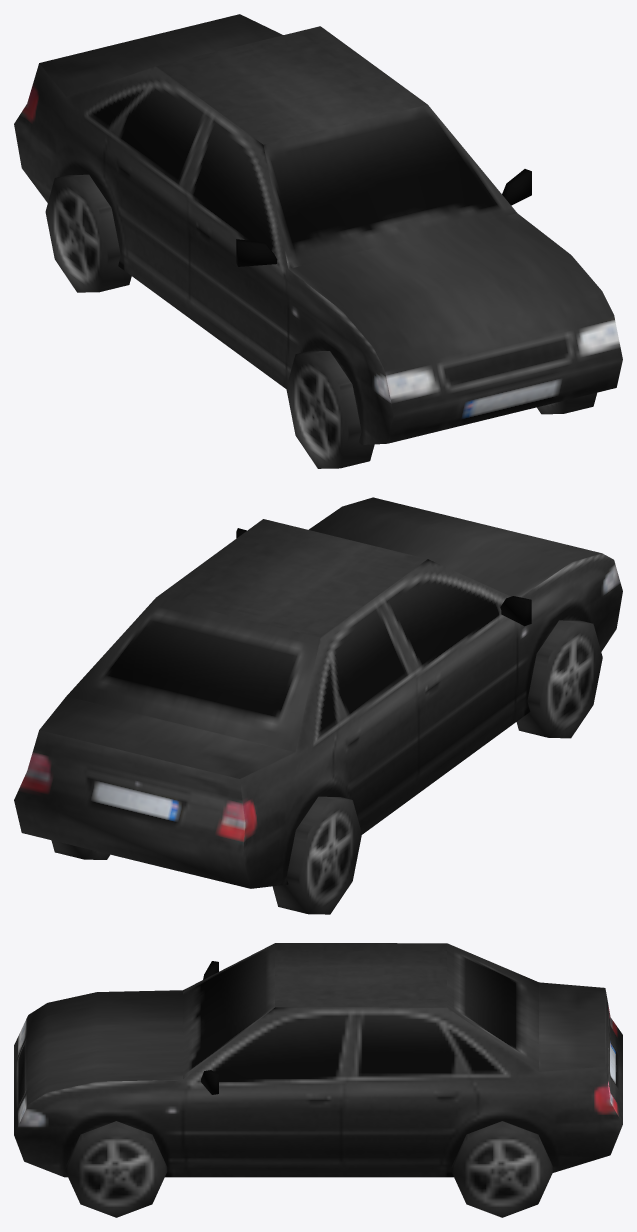
Rendered from psx_-_black_car_free_download.glb.
3 renders of one model, top to bottom at view 1: azimuth 30°, elevation 25°; view 2: azimuth 150°, elevation 25°; view 3: azimuth 270°, elevation 25°, orthographic. The views are drawn at different scales.
Parts seen in each view (by area): view 1: Object_3, Object_2; view 2: Object_3, Object_2; view 3: Object_2, Object_3.
Part boxes in pixels (x1,y1,x2,y2): Object_3: [39, 14, 622, 443]; Object_2: [14, 63, 596, 468]; Object_3: [14, 497, 601, 888]; Object_2: [51, 528, 622, 914]; Object_2: [14, 961, 622, 1217]; Object_3: [14, 943, 622, 1134].
Bounding box in the file's own units: 3.57 × 2.8 × 8.
2 materials, 2 textured.
